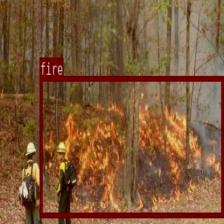fire: (39, 75, 224, 217)
